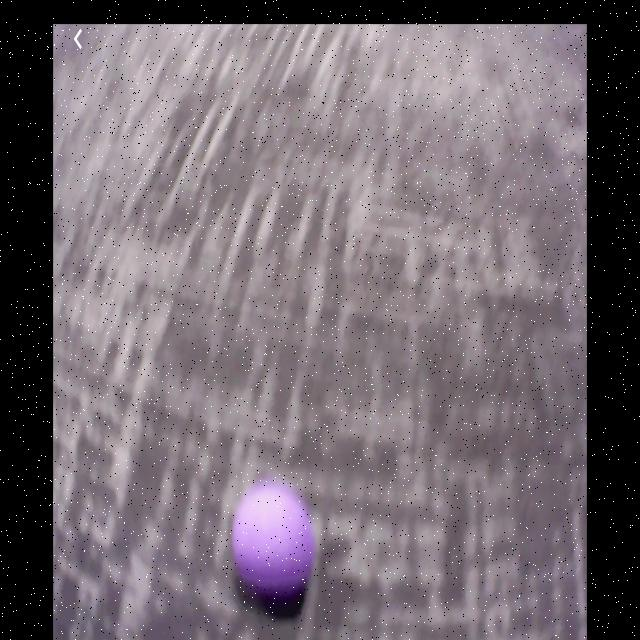ball: (233, 484, 310, 603)
